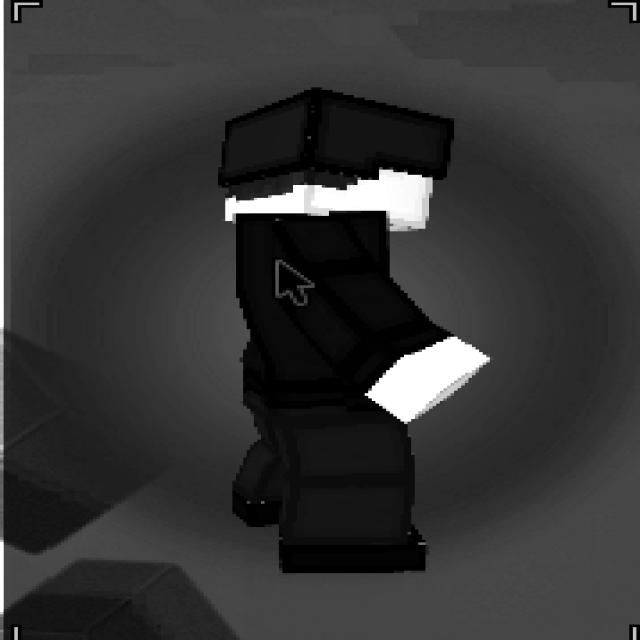Head: (215, 85, 454, 231)
Player: (211, 85, 490, 573)
